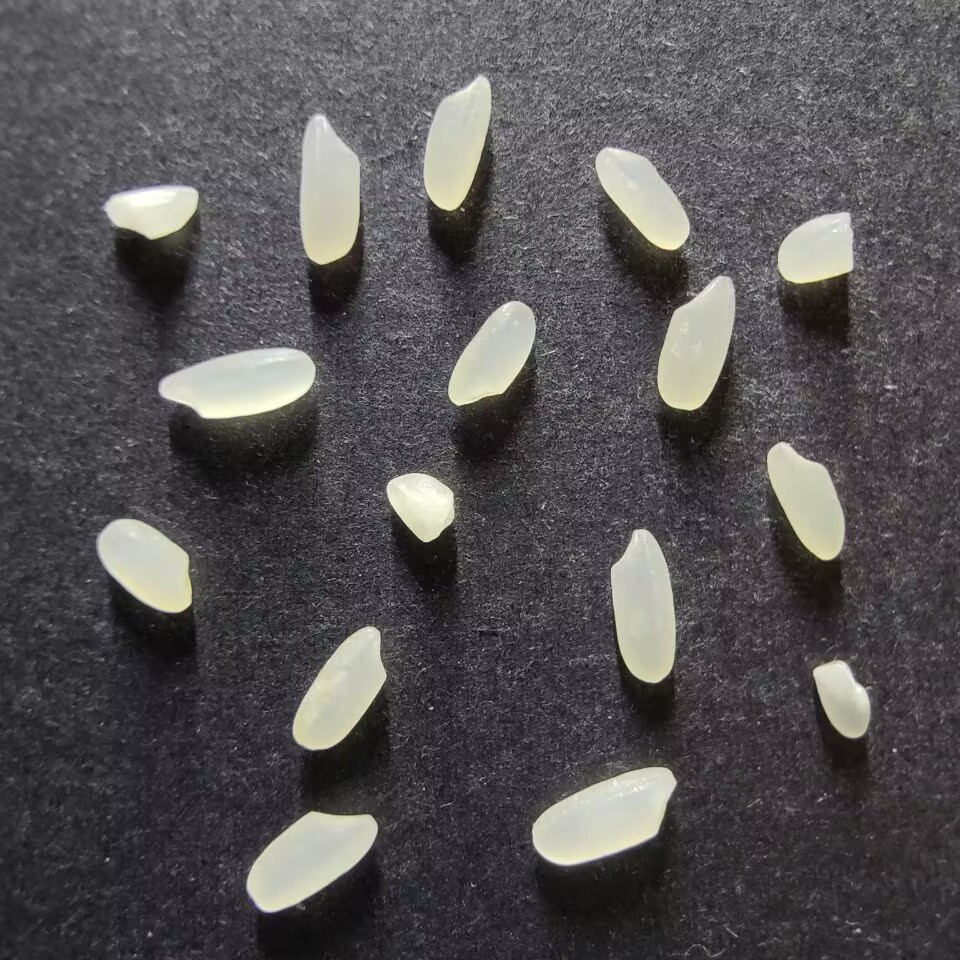broken: (777, 211, 854, 283), (103, 185, 200, 241), (384, 472, 456, 543), (811, 660, 871, 739)
rice: (531, 766, 677, 865), (245, 809, 376, 912), (291, 625, 386, 751), (157, 348, 315, 419), (656, 275, 735, 410), (609, 528, 675, 683), (594, 146, 690, 251), (422, 73, 492, 211), (447, 300, 536, 406), (298, 113, 360, 265), (766, 441, 844, 560), (96, 518, 193, 613)
